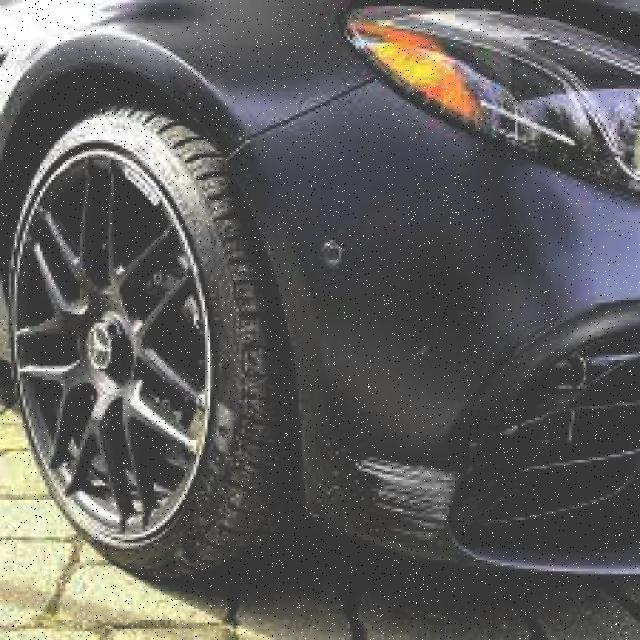car damage: (350, 457, 461, 551)
